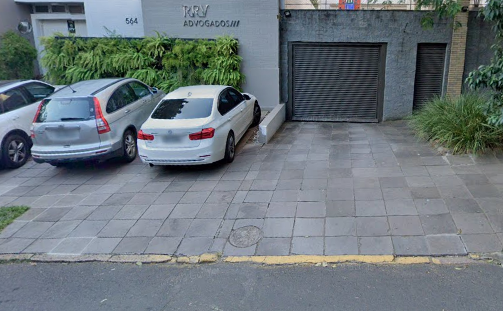vag21: (231, 199, 489, 283)
vag22: (21, 205, 223, 289)
